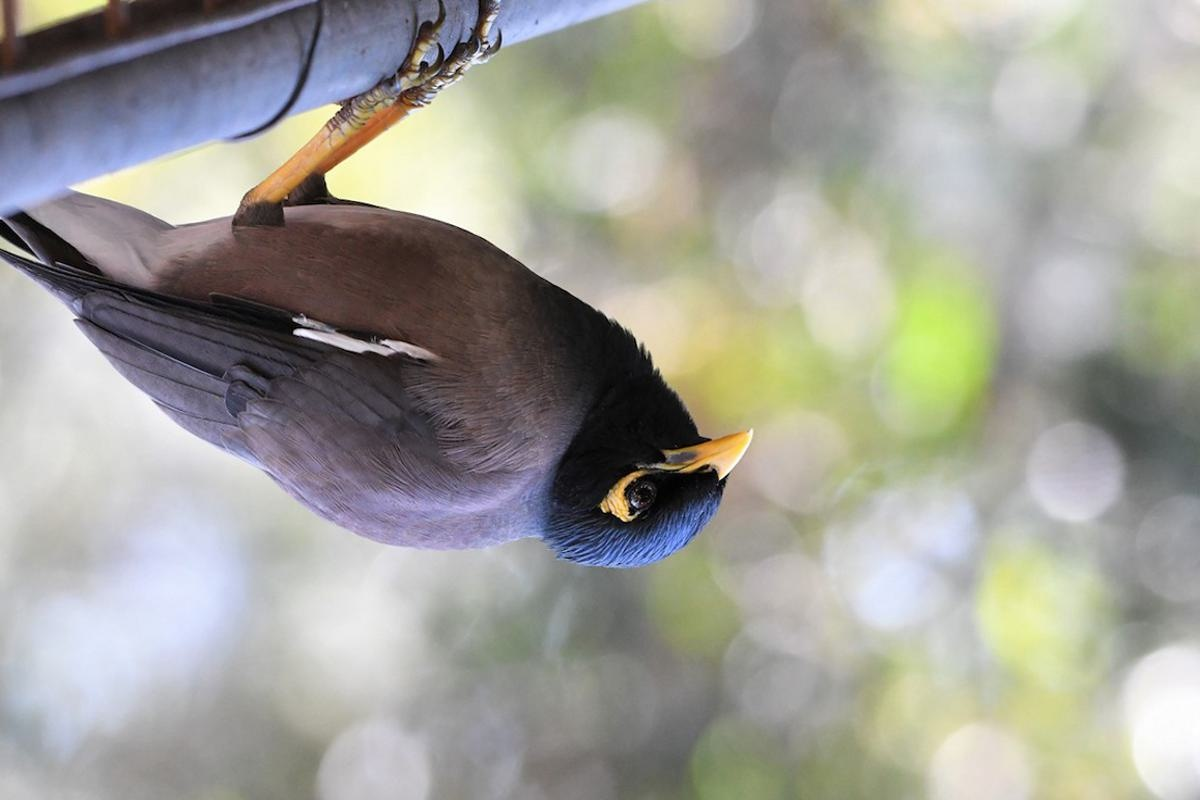myna: (75, 93, 779, 596)
